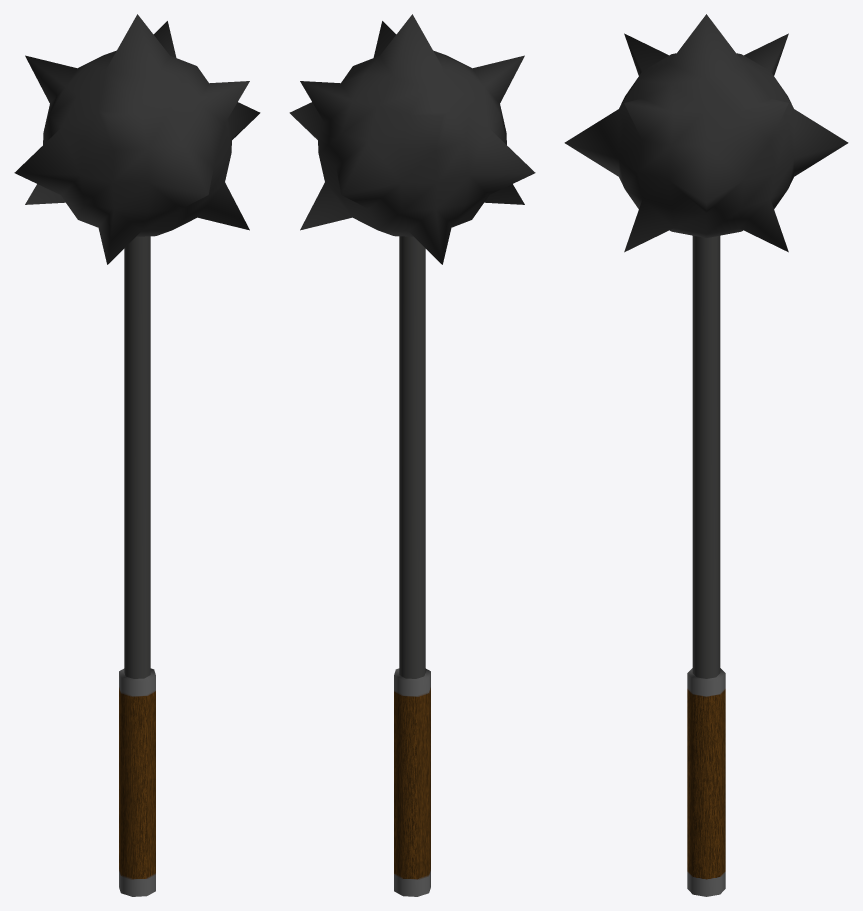
File: mace.fbx
3 renders of one model, left to right at view 1: azimuth 30°, elevation 25°; view 2: azimuth 150°, elevation 25°; view 3: azimuth 270°, elevation 25°, orthographic.
Visible parts, largest first — view 1: polySurface2; view 2: polySurface2; view 3: polySurface2.
Boxes of the visible parts, x1=… form: polySurface2: x1=14, y1=14, x2=260, y2=896; polySurface2: x1=289, y1=14, x2=535, y2=896; polySurface2: x1=564, y1=14, x2=848, y2=896.
Size of the model in its own units: 15.04 by 51.03 by 15.04.
